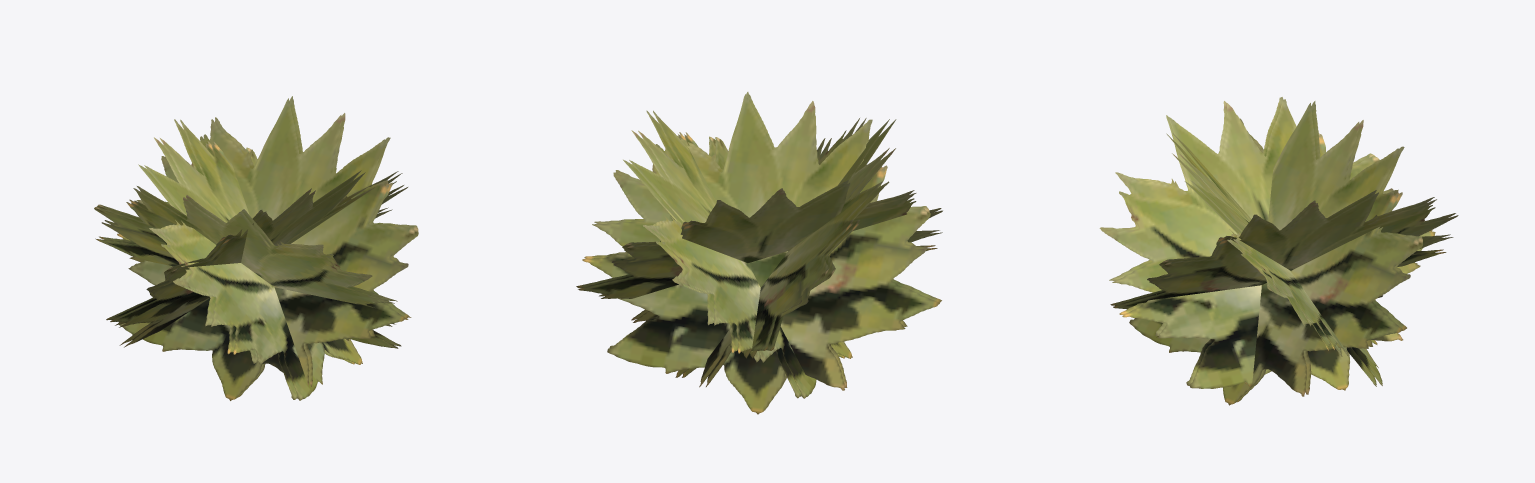
File: plant_desert_02.dae
3 renders of one model, left to right at view 1: azimuth 30°, elevation 25°; view 2: azimuth 150°, elevation 25°; view 3: azimuth 270°, elevation 25°, orthographic. The views are drawn at different scales.
Parts seen in each view (by area): view 1: Plane07; view 2: Plane07; view 3: Plane07.
Boxes of the visible parts, x1,y1,x2,y2 form: Plane07: (94, 96, 418, 400); Plane07: (576, 92, 942, 414); Plane07: (1099, 97, 1458, 405).
Bounding box in the file's own units: 3.62 × 3.85 × 2.27.
